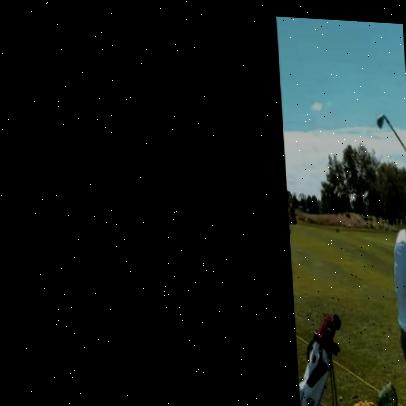GolfBall: (373, 104, 390, 126)
